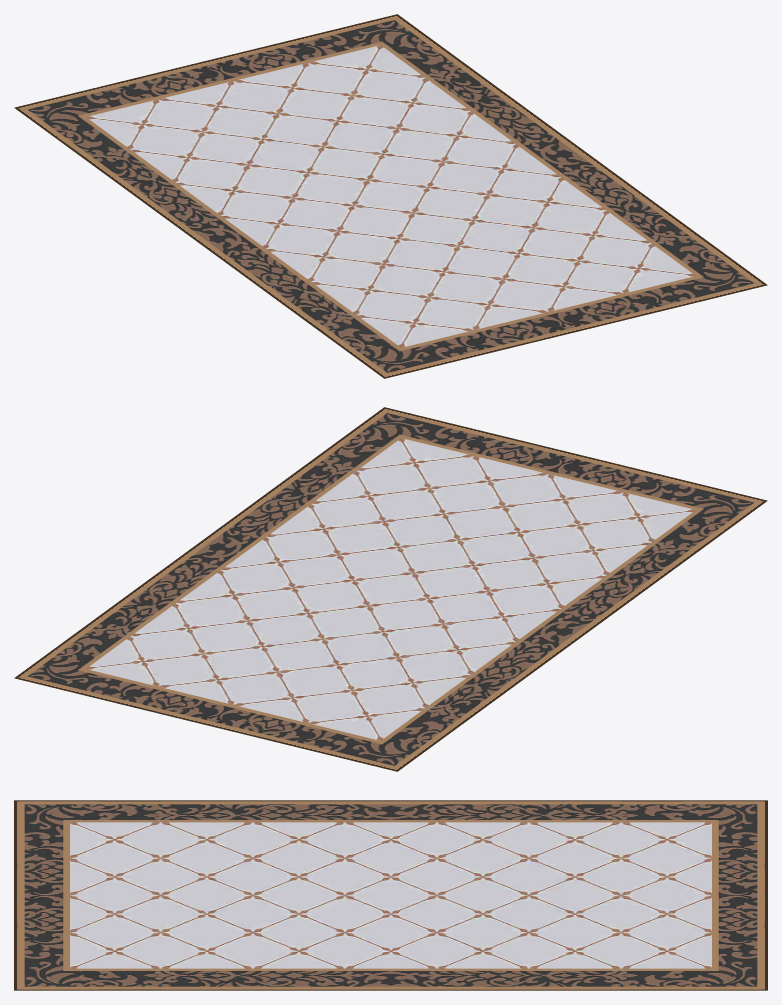
The model's file is my_gehennaparty_01_carpet_02.glb.
3 renders of one model, top to bottom at view 1: azimuth 30°, elevation 25°; view 2: azimuth 150°, elevation 25°; view 3: azimuth 270°, elevation 25°, orthographic.
Visible parts, largest first — view 1: my_gehennaparty_01_carpet_02; view 2: my_gehennaparty_01_carpet_02; view 3: my_gehennaparty_01_carpet_02.
Boxes of the visible parts, x1=… form: my_gehennaparty_01_carpet_02: x1=14, y1=14, x2=767, y2=378; my_gehennaparty_01_carpet_02: x1=14, y1=407, x2=767, y2=771; my_gehennaparty_01_carpet_02: x1=14, y1=800, x2=767, y2=990.
Size of the model in its own units: 0.0177 by 2.33e-12 by 0.0296.
1 material, 1 textured.
